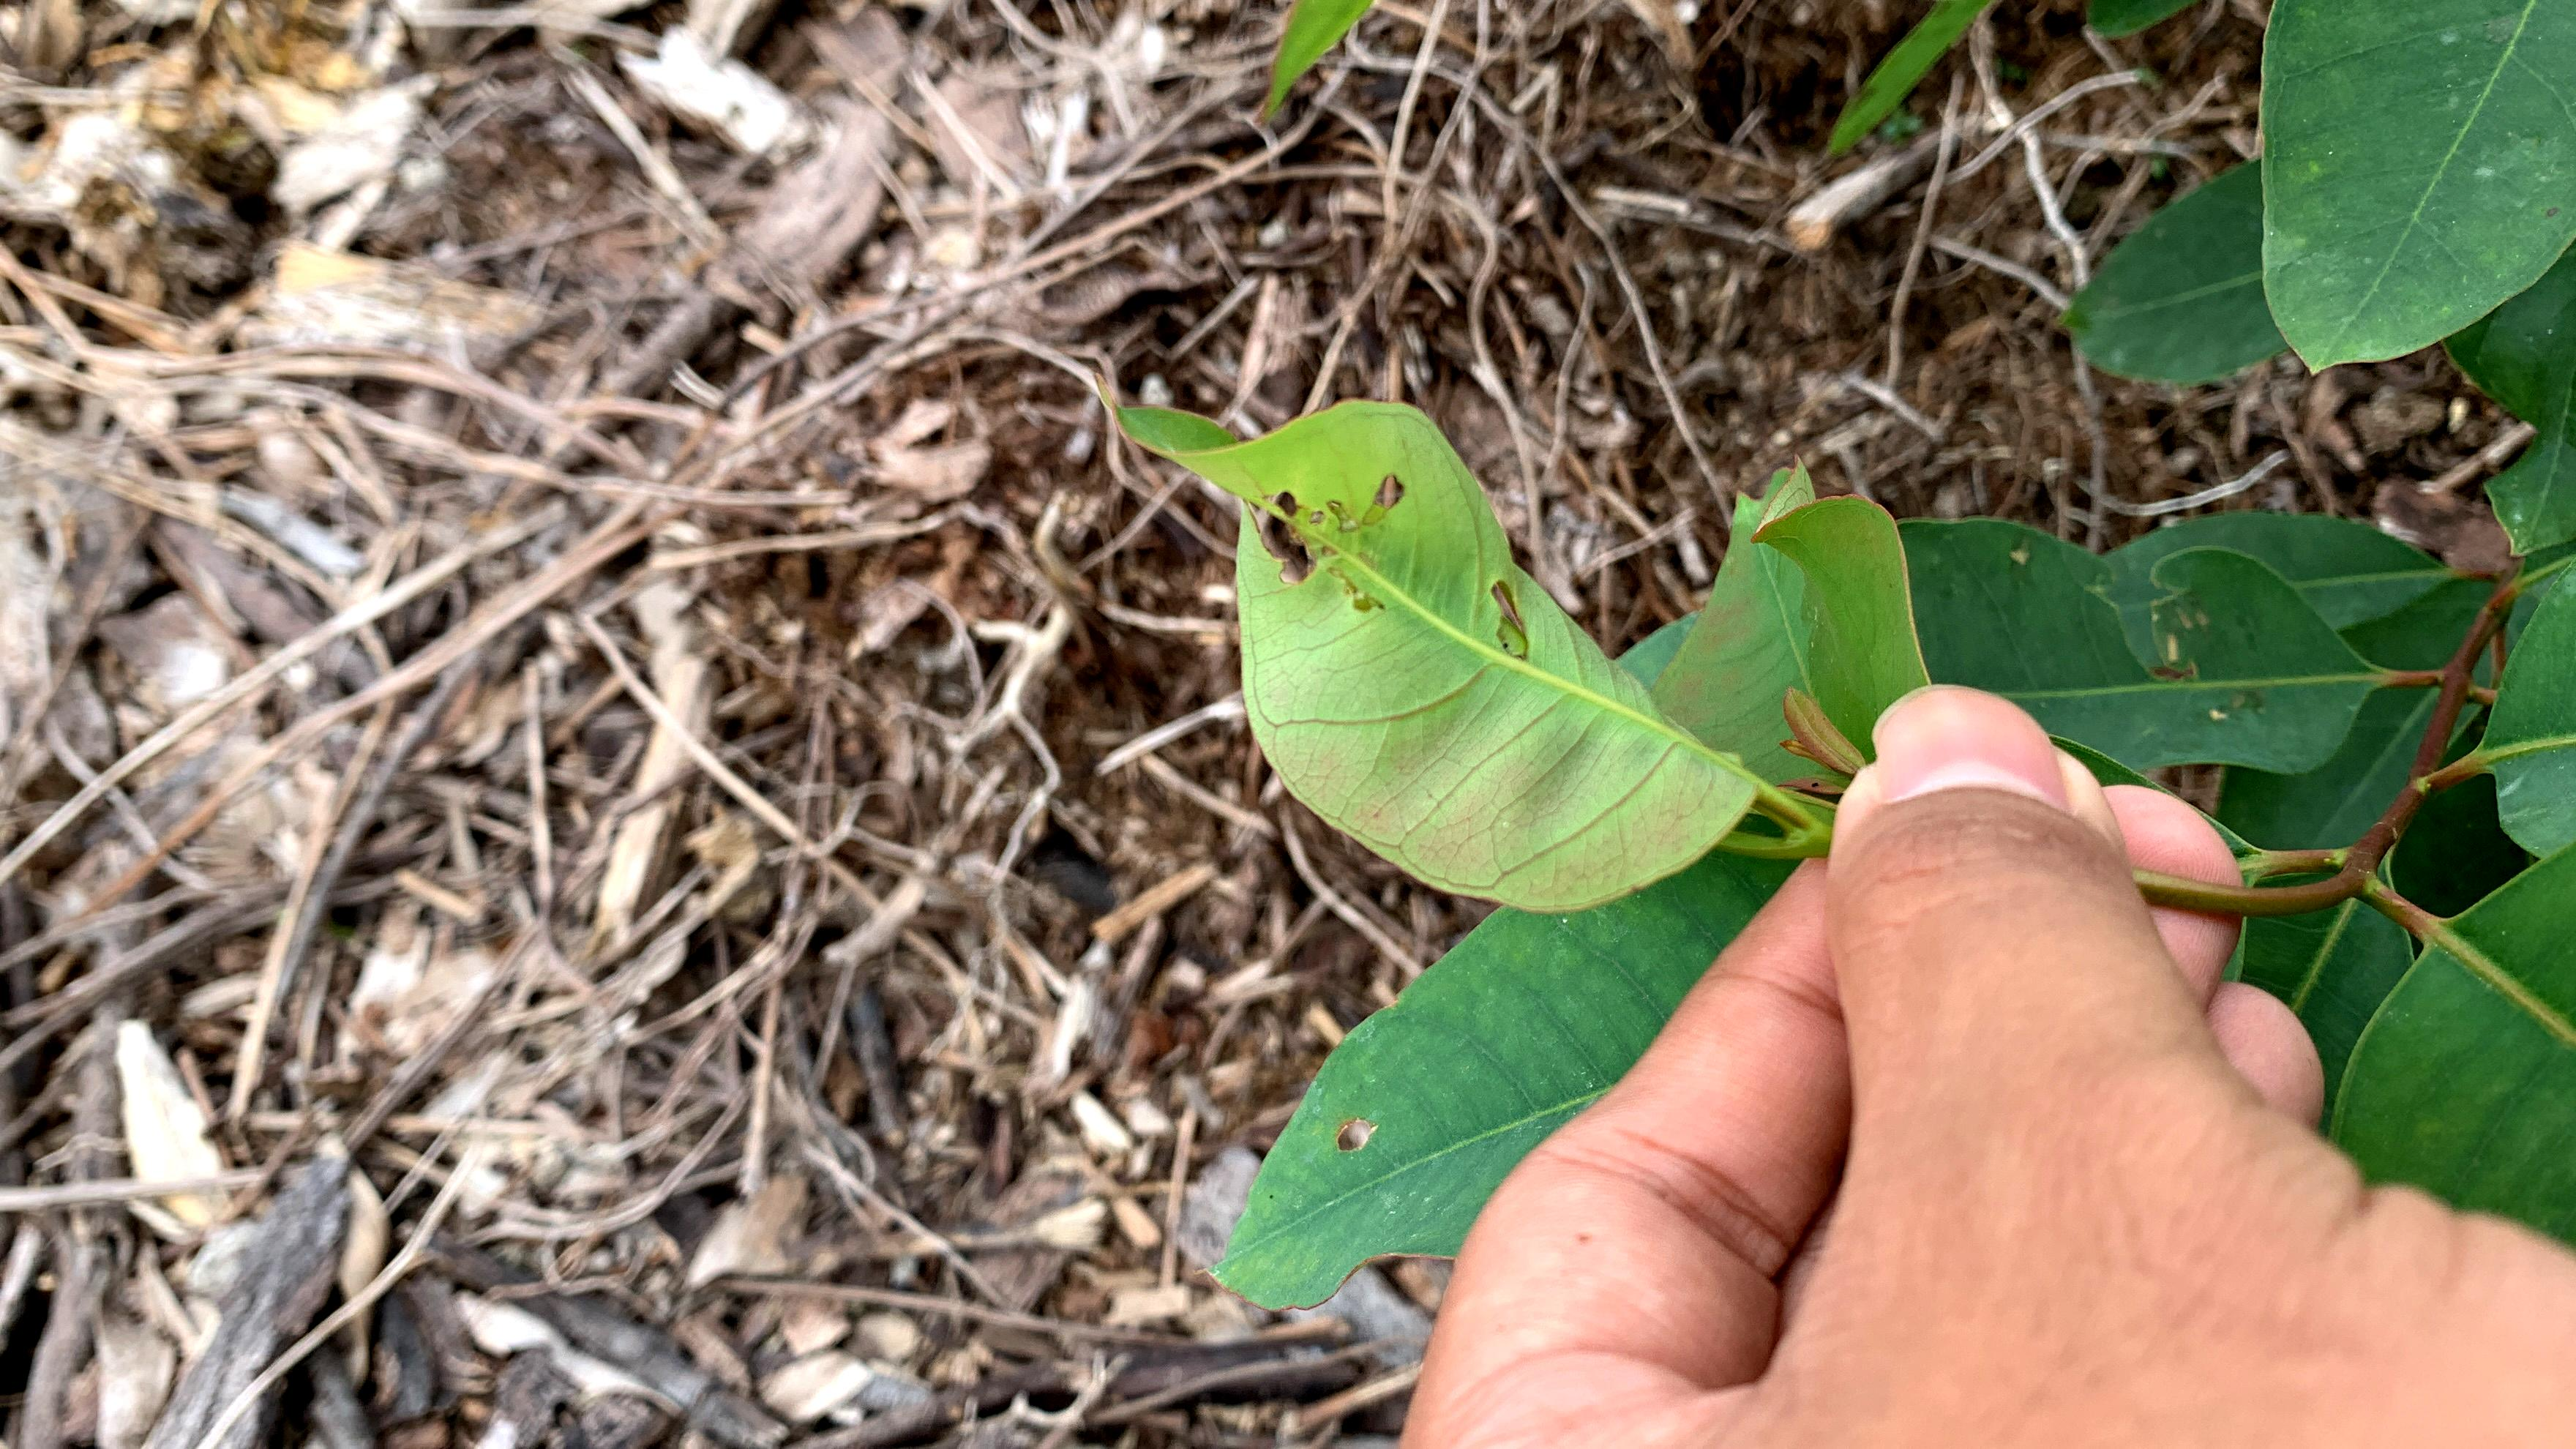Leaf Roller - Leaf: (1109, 366, 1732, 936)
